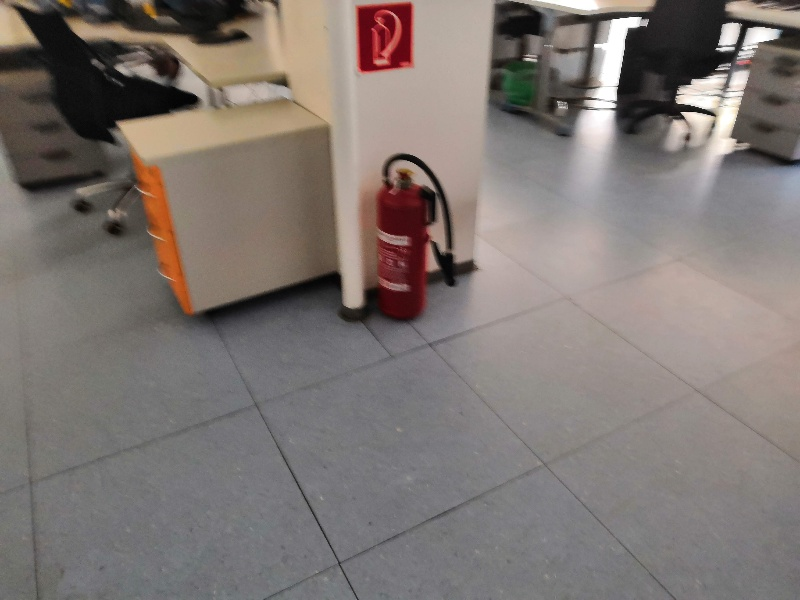vataparat: (377, 155, 455, 319)
